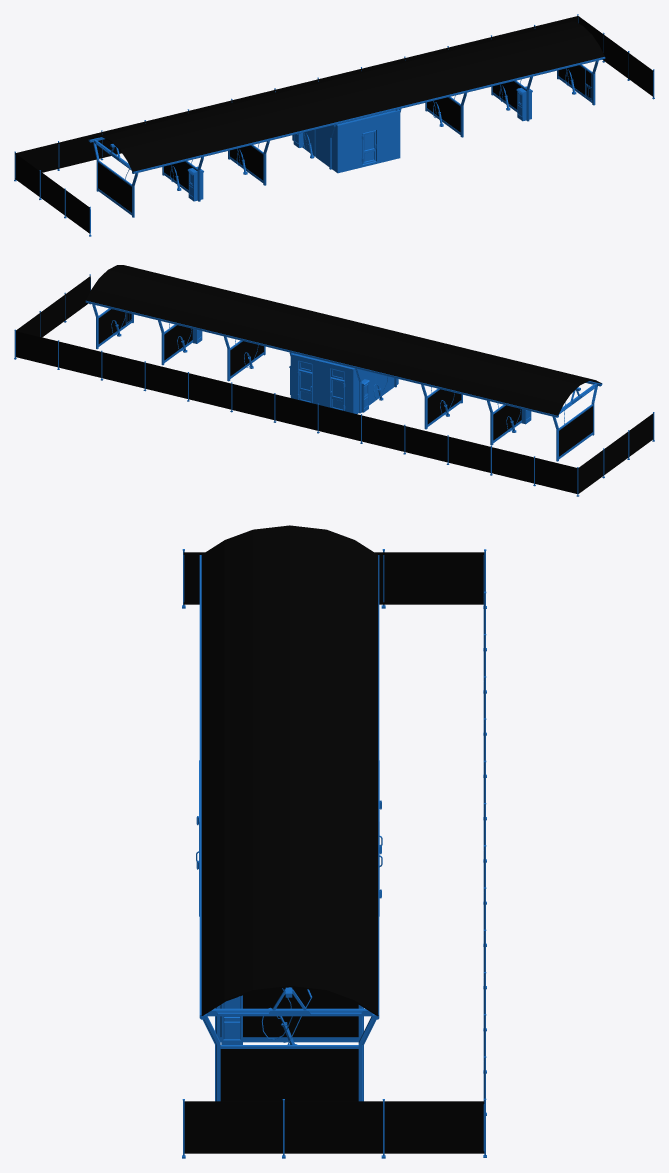
Rendered from HALF_car_wash.fbx.
3 renders of one model, top to bottom at view 1: azimuth 30°, elevation 25°; view 2: azimuth 150°, elevation 25°; view 3: azimuth 270°, elevation 25°, orthographic. The views are drawn at different scales.
Parts seen in each view (by area): view 1: Symmetry_3; view 2: Symmetry_3; view 3: Symmetry_3.
Boxes of the visible parts, box(x1,y1,x2,y2) form: Symmetry_3: box(14, 14, 654, 236); Symmetry_3: box(14, 265, 654, 496); Symmetry_3: box(182, 525, 486, 1158).
Size of the model in its own units: 4296 by 476 by 1005.
